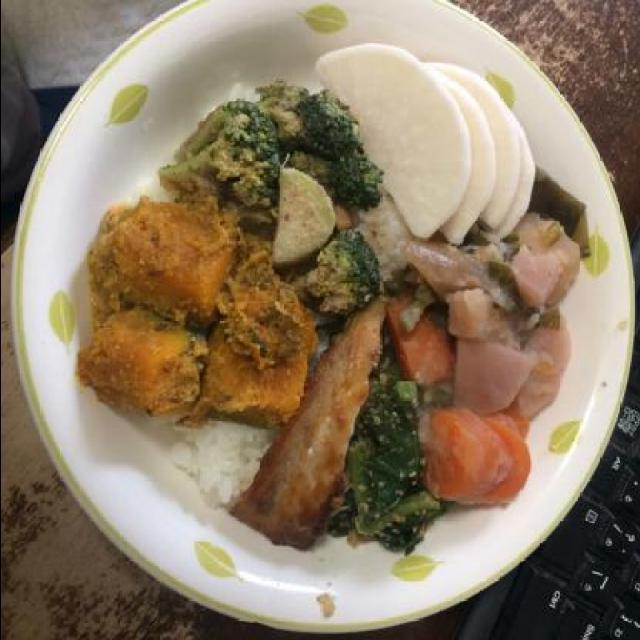Broccoli: (160, 96, 274, 208), (266, 97, 376, 209), (284, 227, 374, 316)
